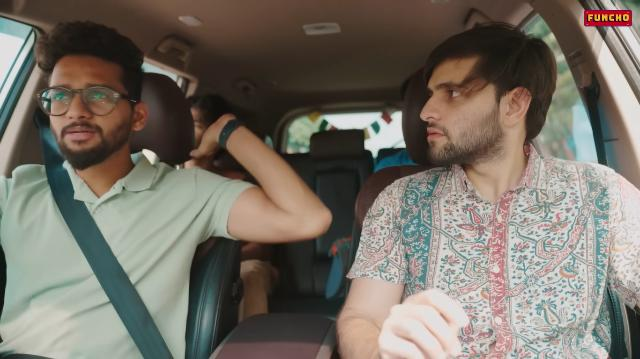no seatbelt: (391, 113, 589, 346)
seatbelt: (32, 106, 176, 358)
